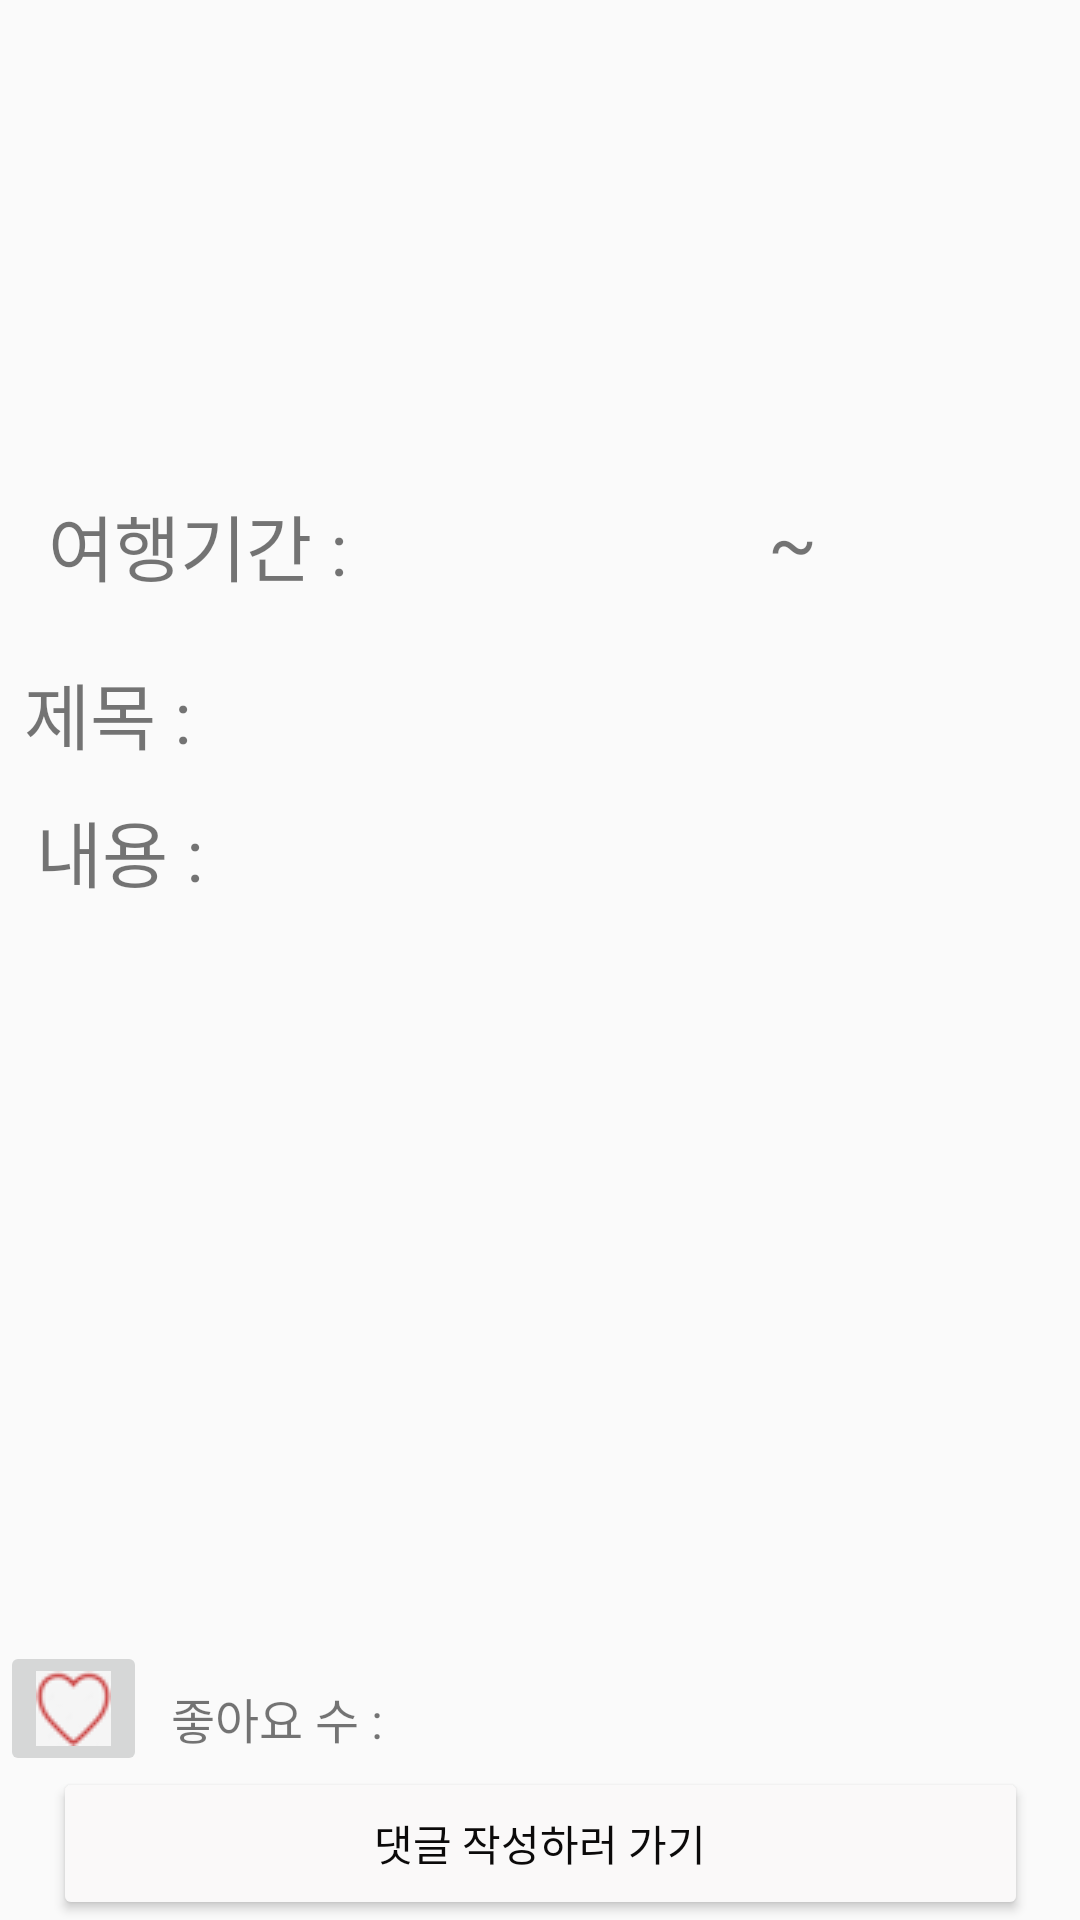

Icon bounding boxes for this 1080x1920 phone screenshot, format Rect(x1, y1, x2, y2):
not love: Rect(12, 1659, 135, 1758)
